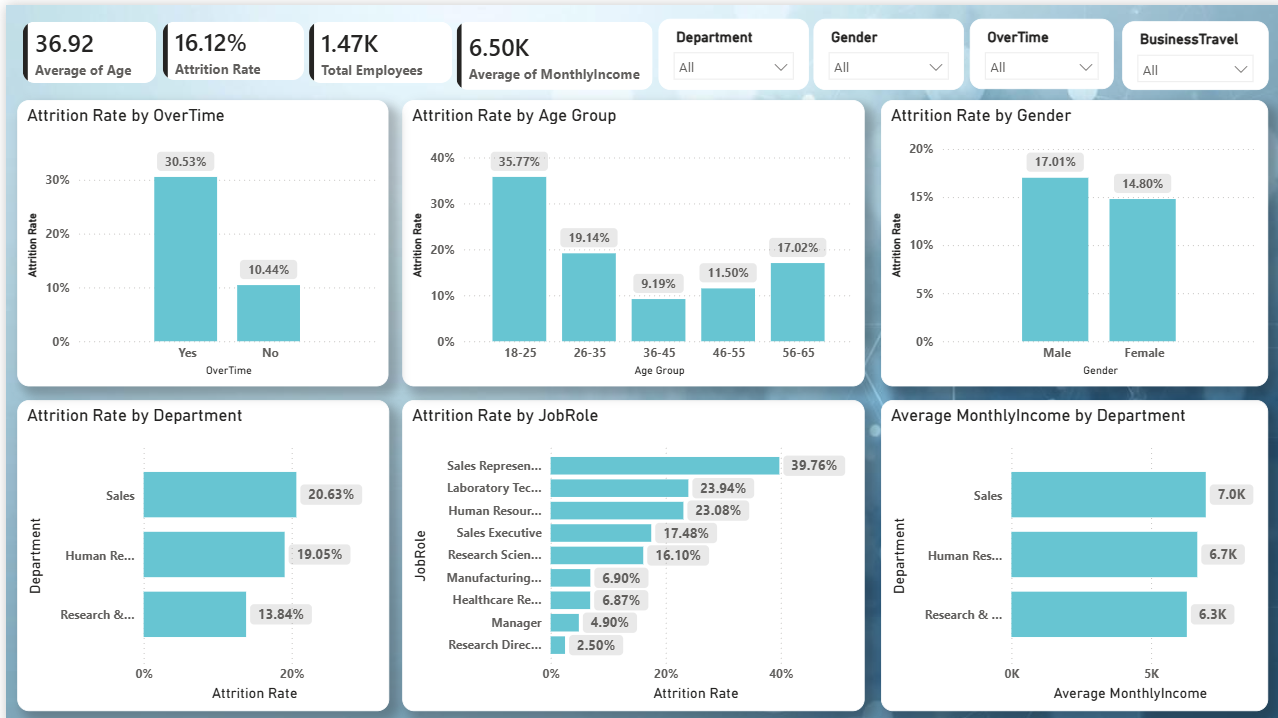

The page's visual inventory and layout, read from the dashboard file:
{"tool":"powerbi","page":{"name":"Page 1","canvas":[1280,720],"ordinal":0},"visuals":[{"type":"cardVisual","fields":{"Data":["HR File.Attrition Rate"]},"box":[148.8,0,175,100],"z":0},{"type":"cardVisual","fields":{"Data":["Count(HR File.EmployeeNumber)"]},"box":[0,0,177.5,100],"z":1000},{"type":"cardVisual","fields":{"Data":["Avg(HR File.MonthlyIncome)"]},"box":[296.2,0,230,102.5],"z":2000},{"type":"cardVisual","fields":{"Data":["Avg(HR File.Age)"]},"box":[496.2,0,167.5,102.5],"z":3000},{"type":"clusteredBarChart","fields":{"Category":["HR File.Department"],"Y":["HR File.Attrition Rate"]},"box":[11,395.2,371.9,311.5],"z":4000},{"type":"clusteredBarChart","fields":{"Category":["HR File.JobRole"],"Y":["HR File.Attrition Rate"]},"box":[396.2,395,462.5,311.2],"z":5000},{"type":"clusteredColumnChart","fields":{"Category":["HR File.Age Group"],"Y":["HR File.Attrition Rate"]},"box":[396.2,95,462.5,286.2],"z":6000},{"type":"clusteredBarChart","fields":{"Y":["Avg(HR File.MonthlyIncome)"],"Category":["HR File.Department"]},"box":[875.5,395.2,387,311.5],"z":7000},{"type":"clusteredColumnChart","fields":{"Category":["HR File.OverTime"],"Y":["HR File.Attrition Rate"]},"box":[11.2,95,371.2,286.2],"z":8000},{"type":"slicer","fields":{"Values":["HR File.Department"]},"box":[652.5,13.8,150,71.2],"z":9000},{"type":"slicer","fields":{"Values":["HR File.Gender"]},"box":[807.5,13.8,150,71.2],"z":10000},{"type":"slicer","fields":{"Values":["HR File.BusinessTravel"]},"box":[1116.2,16.2,146.2,68.8],"z":11000},{"type":"slicer","fields":{"Values":["HR File.OverTime"]},"box":[963.8,13.8,143.8,70],"z":12000},{"type":"clusteredColumnChart","fields":{"Y":["HR File.Attrition Rate"],"Category":["HR File.Gender"]},"box":[875,95,387.5,286.2],"z":13000}]}

Visuals, with their boxes in screenshot pixels (x1, y1, x2, y2), scaled from the page's 1280x720 canvas onto the 1278x718 screenshot:
cardVisual - HR File.Attrition Rate: 149, 0, 323, 100
cardVisual - Count(HR File.EmployeeNumber): 0, 0, 177, 100
cardVisual - Avg(HR File.MonthlyIncome): 296, 0, 525, 102
cardVisual - Avg(HR File.Age): 495, 0, 663, 102
clusteredBarChart - HR File.Department x HR File.Attrition Rate: 11, 394, 382, 705
clusteredBarChart - HR File.JobRole x HR File.Attrition Rate: 396, 394, 857, 704
clusteredColumnChart - HR File.Age Group x HR File.Attrition Rate: 396, 95, 857, 380
clusteredBarChart - Avg(HR File.MonthlyIncome) x HR File.Department: 874, 394, 1261, 705
clusteredColumnChart - HR File.OverTime x HR File.Attrition Rate: 11, 95, 382, 380
slicer - HR File.Department: 651, 14, 801, 85
slicer - HR File.Gender: 806, 14, 956, 85
slicer - HR File.BusinessTravel: 1114, 16, 1260, 85
slicer - HR File.OverTime: 962, 14, 1106, 84
clusteredColumnChart - HR File.Attrition Rate x HR File.Gender: 874, 95, 1261, 380
